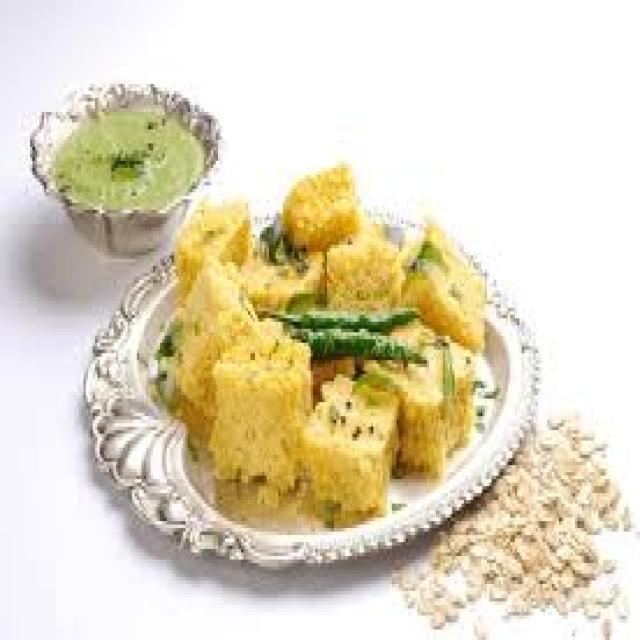DHOKLA: (371, 302, 472, 475), (216, 316, 309, 487), (307, 362, 409, 511), (180, 261, 259, 404), (411, 220, 483, 357), (330, 226, 406, 307), (182, 202, 253, 288), (286, 173, 356, 254), (245, 256, 319, 316)
